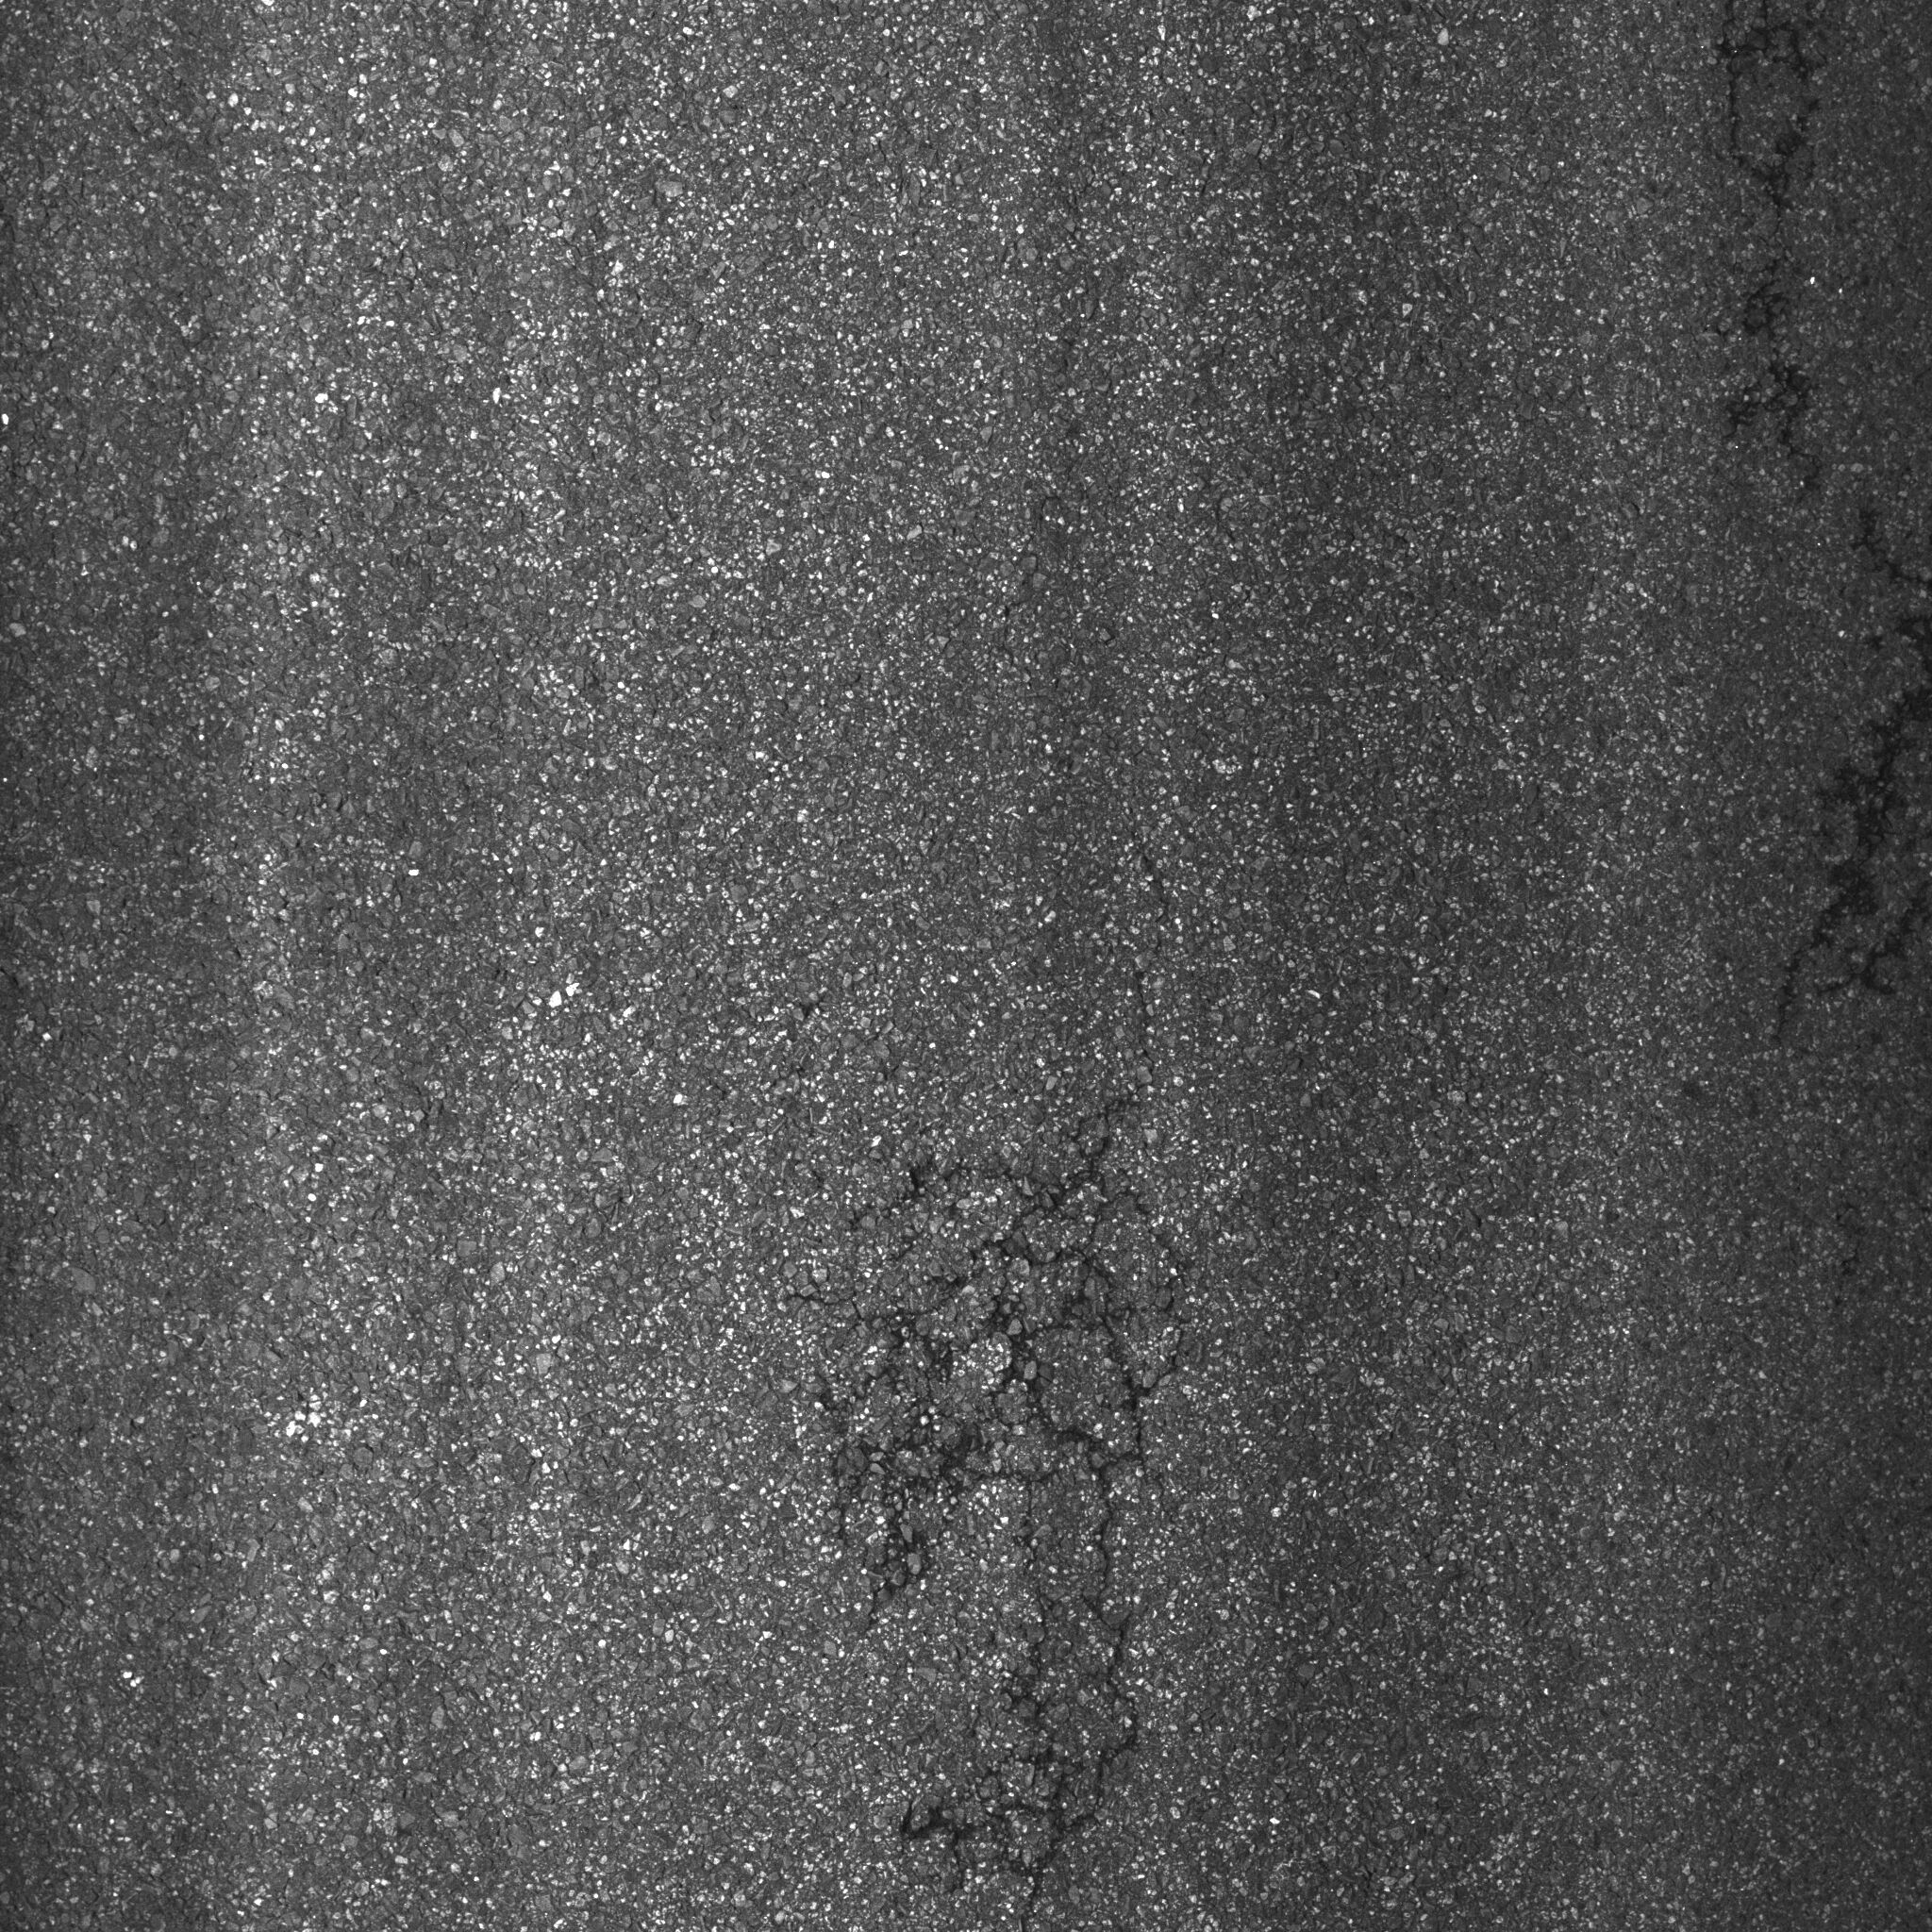alligator: (787, 839, 1286, 1930), (1656, 9, 1932, 1070)
